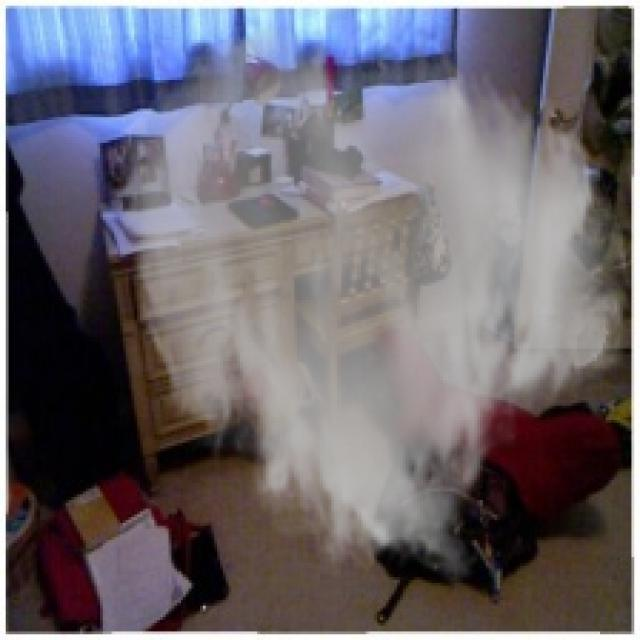Smoke: (111, 22, 634, 588)
